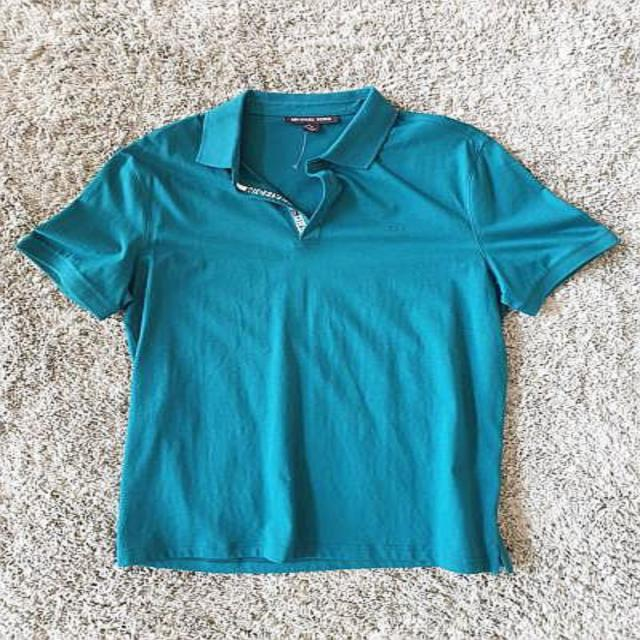T_SHIRT: (9, 80, 627, 582)
